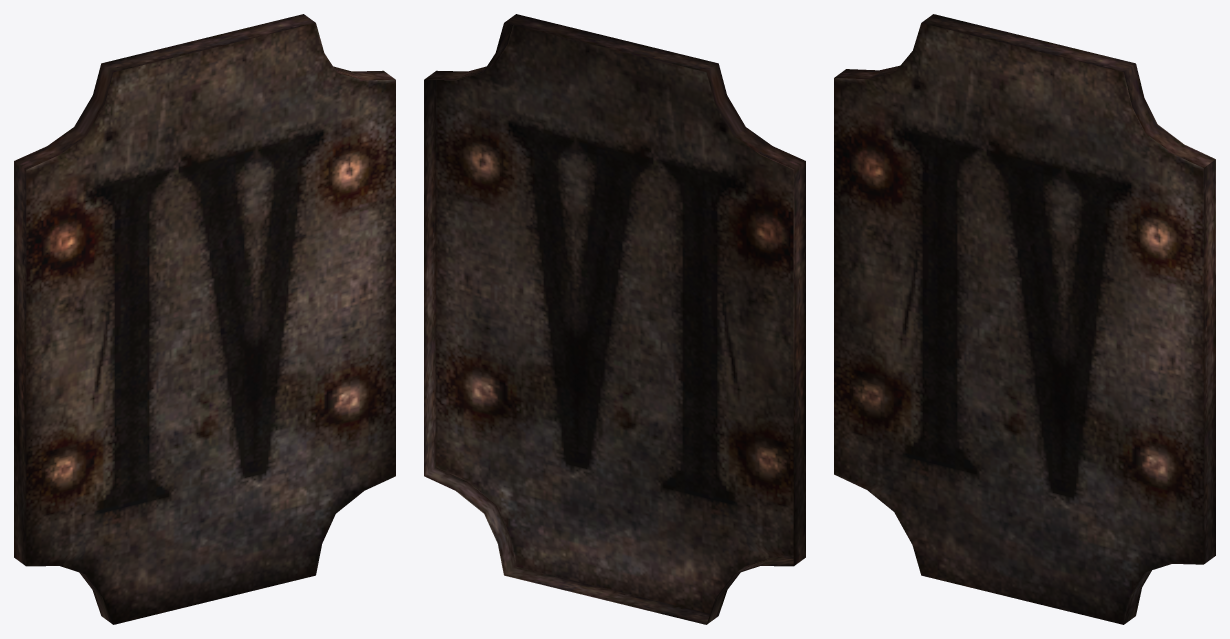
File: roman_numeral_signs_4.dae
The picture shows the model from 3 angles, left to right: view 1: azimuth 30°, elevation 25°; view 2: azimuth 150°, elevation 25°; view 3: azimuth 330°, elevation 25°; orthographic projection.
Parts seen in each view (by area): view 1: pCube1; view 2: pCube1; view 3: pCube1.
Part boxes in pixels (box(x1,y1,x2,y2)): pCube1: box(14, 14, 395, 624); pCube1: box(424, 14, 805, 624); pCube1: box(834, 14, 1215, 624).
Size of the model in its own units: 0.35 by 0.5 by 0.02.
